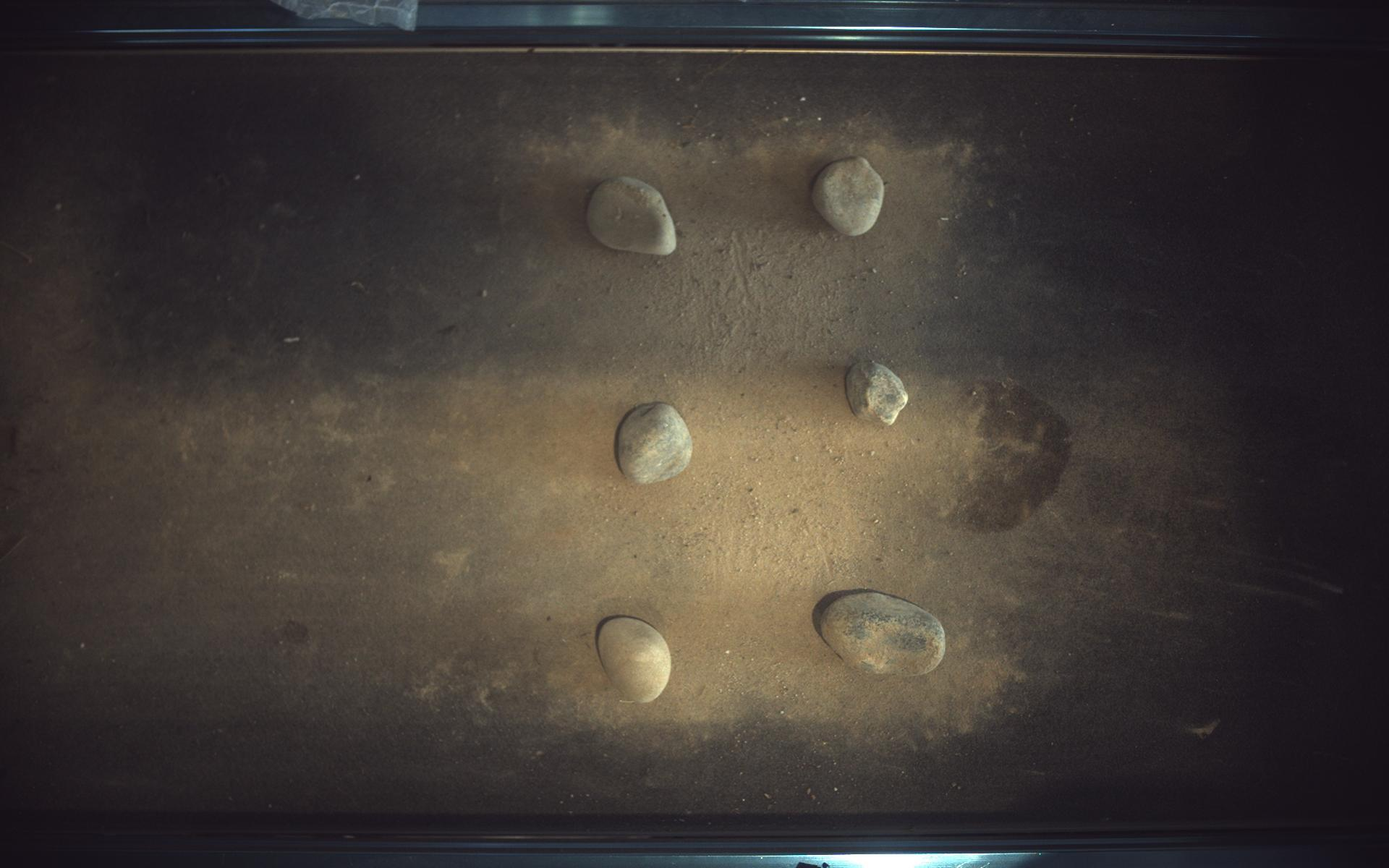stone: (821, 592, 948, 677), (587, 176, 677, 255), (598, 618, 672, 704), (618, 403, 693, 484), (814, 156, 885, 236), (847, 360, 909, 426)
